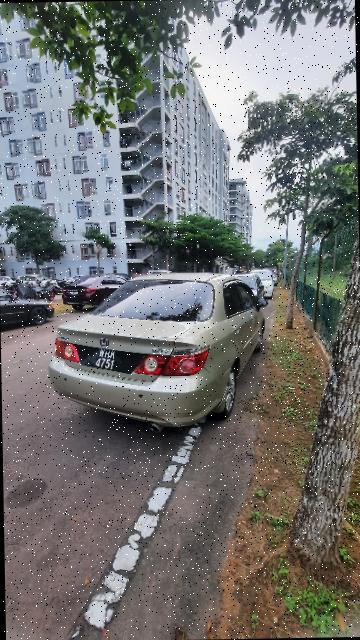License_Plate: (74, 345, 150, 378)
car: (34, 270, 272, 434)
